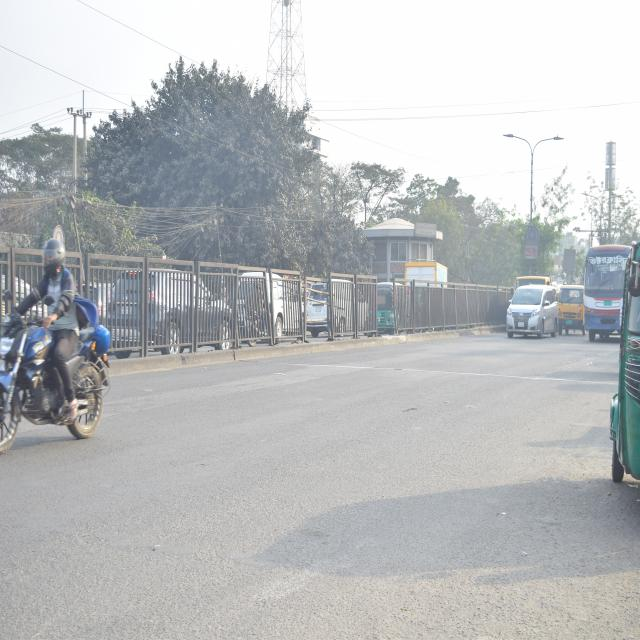bus: (582, 236, 632, 335)
car: (110, 266, 232, 350)
microbus: (501, 279, 554, 350)
motorbike: (0, 308, 109, 442)
pickup-van: (558, 282, 585, 334)
